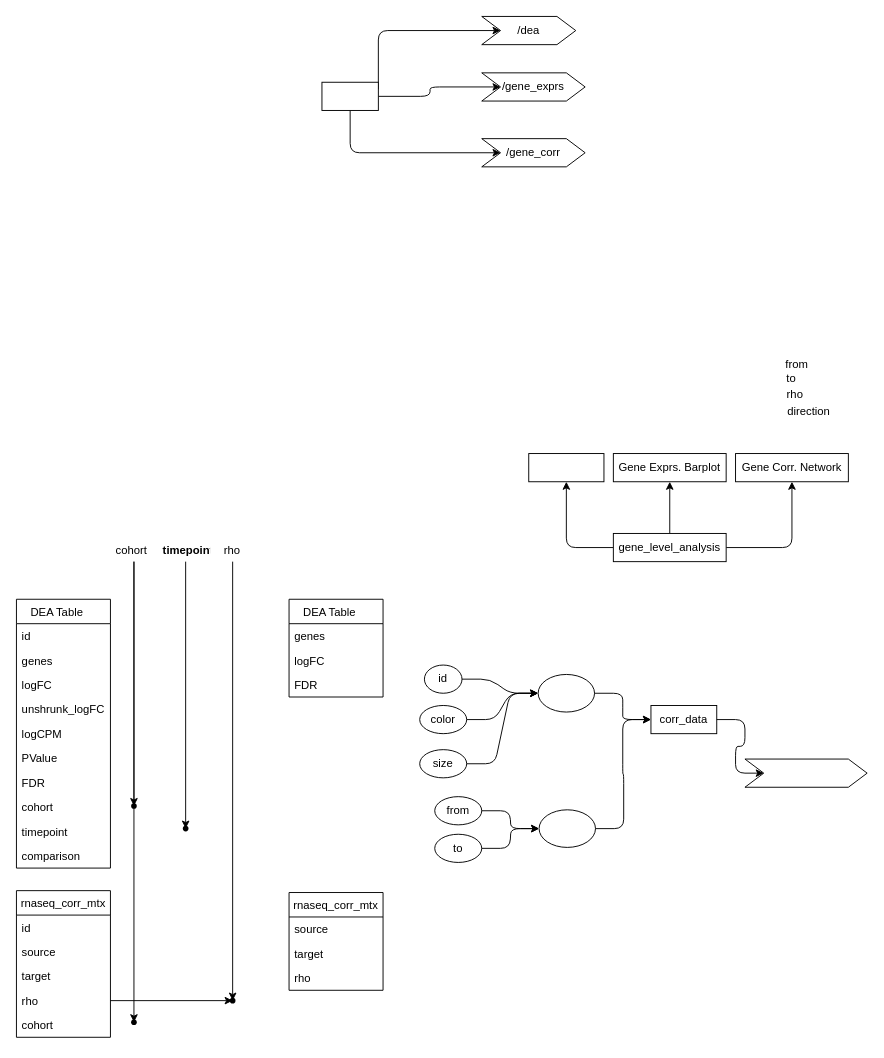
Some shapes in this 884 by 1058 pixel diagram are drawn without their labels. The box of each missing label's shape, as (x1, y1, x2, y2) in pixels:
Backend: (321, 81, 378, 110)
edges: (538, 809, 595, 847)
nodes: (537, 674, 595, 712)
plotCorrNet(): (744, 758, 867, 787)
Volcano Plot: (528, 453, 604, 482)
